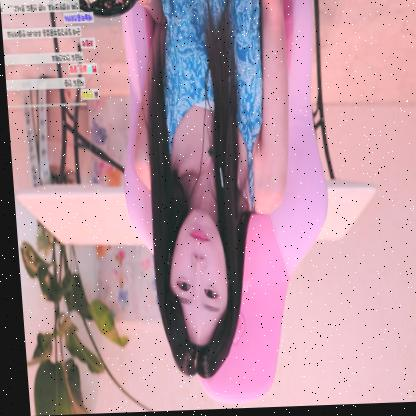streamer: (122, 0, 305, 384)
